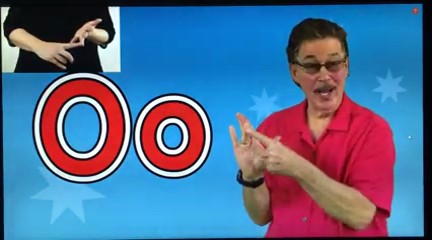O: (223, 106, 312, 181)
